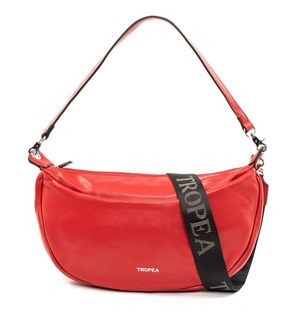cartera: (25, 15, 269, 295)
